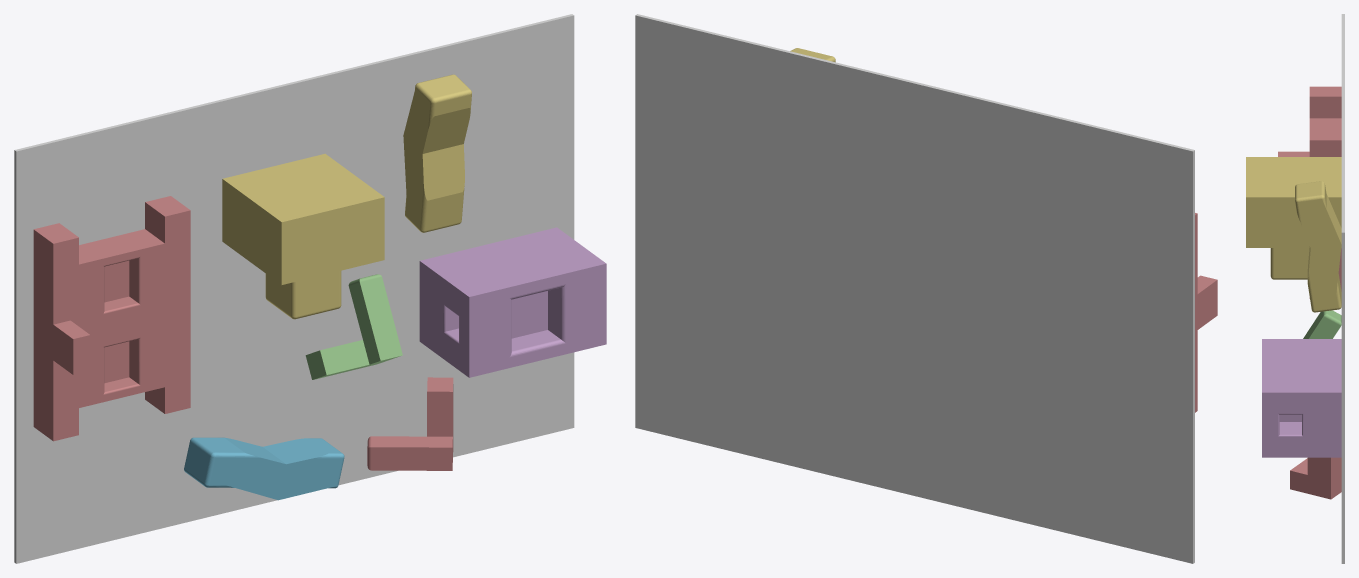
File: pickup_layout.glb
The picture shows the model from 3 angles, left to right: view 1: azimuth 30°, elevation 25°; view 2: azimuth 150°, elevation 25°; view 3: azimuth 270°, elevation 25°; orthographic projection. The views are drawn at different scales.
Visible parts, largest first — view 1: world, 0.obj, 3.obj, 6.obj, 1.obj, 2.obj, 4.obj, 5.obj; view 2: world, 0.obj; view 3: 3.obj, 6.obj, 1.obj, 0.obj, world, 5.obj, 4.obj.
Boxes of the visible parts, x1,y1,x2,y2 form: world: [14, 14, 574, 563]; 0.obj: [33, 196, 190, 441]; 3.obj: [419, 227, 606, 377]; 6.obj: [222, 153, 384, 319]; 1.obj: [403, 74, 471, 232]; 2.obj: [184, 437, 344, 500]; 4.obj: [305, 274, 402, 379]; 5.obj: [367, 377, 453, 470]; world: [635, 14, 1194, 563]; 0.obj: [1195, 213, 1217, 412]; 3.obj: [1262, 339, 1341, 457]; 6.obj: [1246, 157, 1341, 279]; 1.obj: [1295, 181, 1341, 312]; 0.obj: [1278, 86, 1341, 298]; world: [1341, 14, 1344, 563]; 5.obj: [1290, 457, 1341, 499]; 4.obj: [1303, 310, 1341, 338].
Size of the model in its own units: 32.5 by 22.97 by 6.2.
